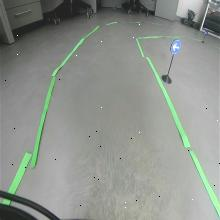left: (170, 39, 181, 55)
